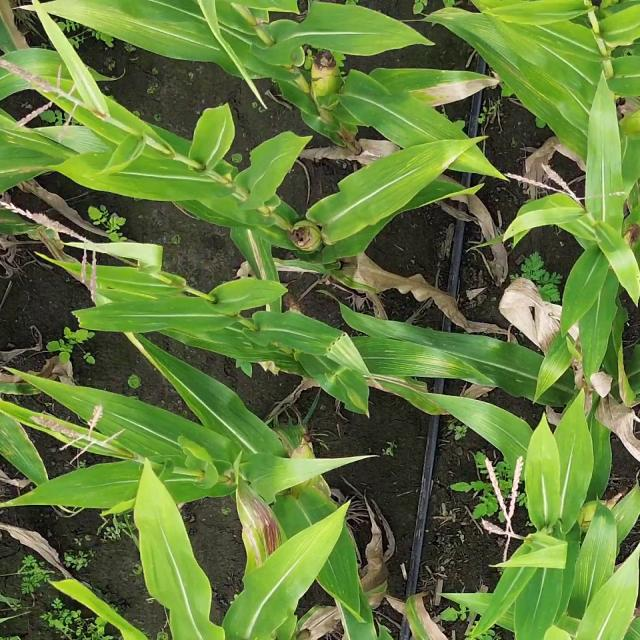gray-leaf-spot: (337, 316, 538, 400)
northern-leaf-blight: (225, 484, 300, 576), (381, 61, 502, 112)
southern-leaf-blight: (78, 286, 267, 364)
